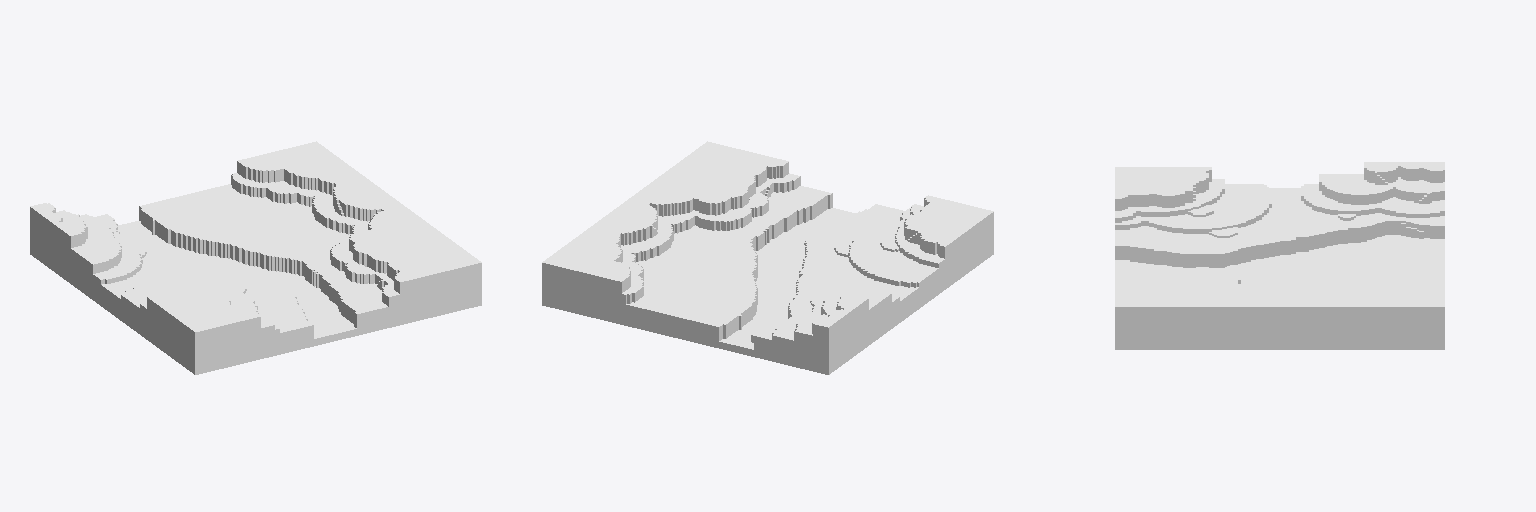
Rendered from Mundo1.obj.
The picture shows the model from 3 angles: view 1: azimuth 30°, elevation 25°; view 2: azimuth 150°, elevation 25°; view 3: azimuth 270°, elevation 25°; orthographic projection.
Visible parts, largest first — view 1: object 1; view 2: object 1; view 3: object 1.
Part boxes in pixels (left/top/right/bottom): object 1: left=30, top=141, right=481, bottom=374; object 1: left=542, top=141, right=993, bottom=374; object 1: left=1115, top=162, right=1444, bottom=349.
Size of the model in its own units: 12.6 by 2 by 12.6.